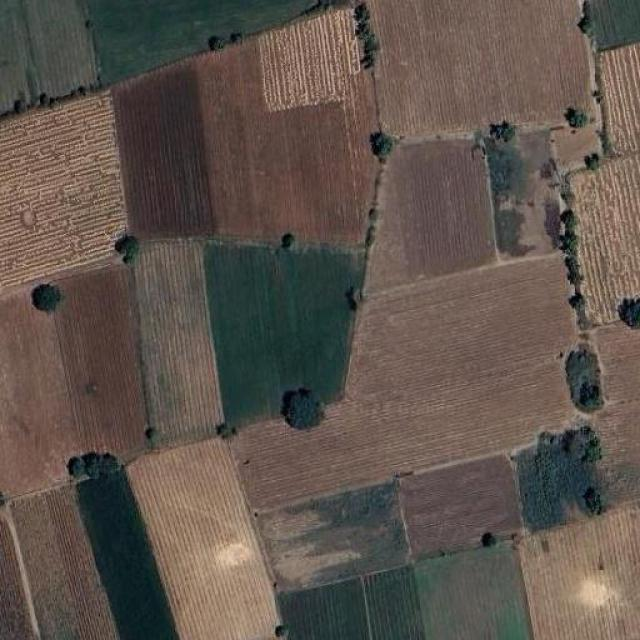land-Sx1C: (231, 256, 576, 510), (195, 40, 376, 243), (128, 438, 279, 639), (369, 0, 590, 136), (204, 243, 362, 426), (0, 90, 126, 288), (69, 452, 178, 639), (86, 0, 318, 85), (366, 140, 495, 291), (134, 240, 224, 446), (54, 264, 146, 457), (114, 61, 212, 238), (258, 481, 408, 591), (11, 485, 118, 639), (519, 504, 640, 640), (0, 291, 74, 496), (399, 455, 522, 558), (571, 154, 640, 323), (415, 542, 531, 640), (0, 0, 98, 114), (479, 122, 560, 258), (259, 9, 361, 112), (512, 425, 605, 530), (591, 322, 640, 504), (279, 579, 369, 640), (599, 42, 640, 154), (0, 514, 36, 639), (366, 568, 422, 639), (590, 0, 640, 49), (551, 125, 601, 172)
